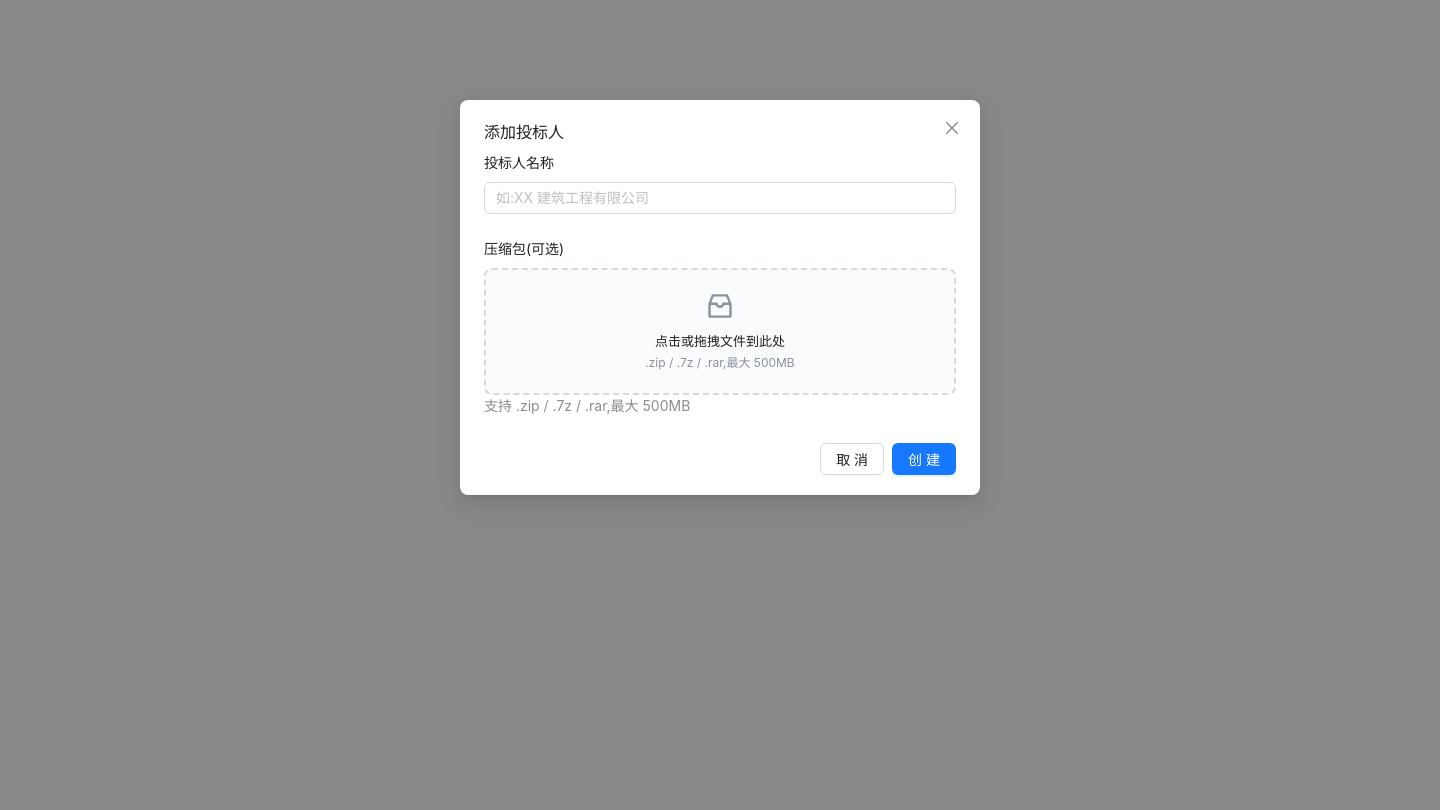
Scenario: AddBidderDialog › 空 name 提交时显示错误,不调 API
Click the button with test id "bidder-submit" at x=924, y=459, box x1=892 y1=443 x2=956 y2=475
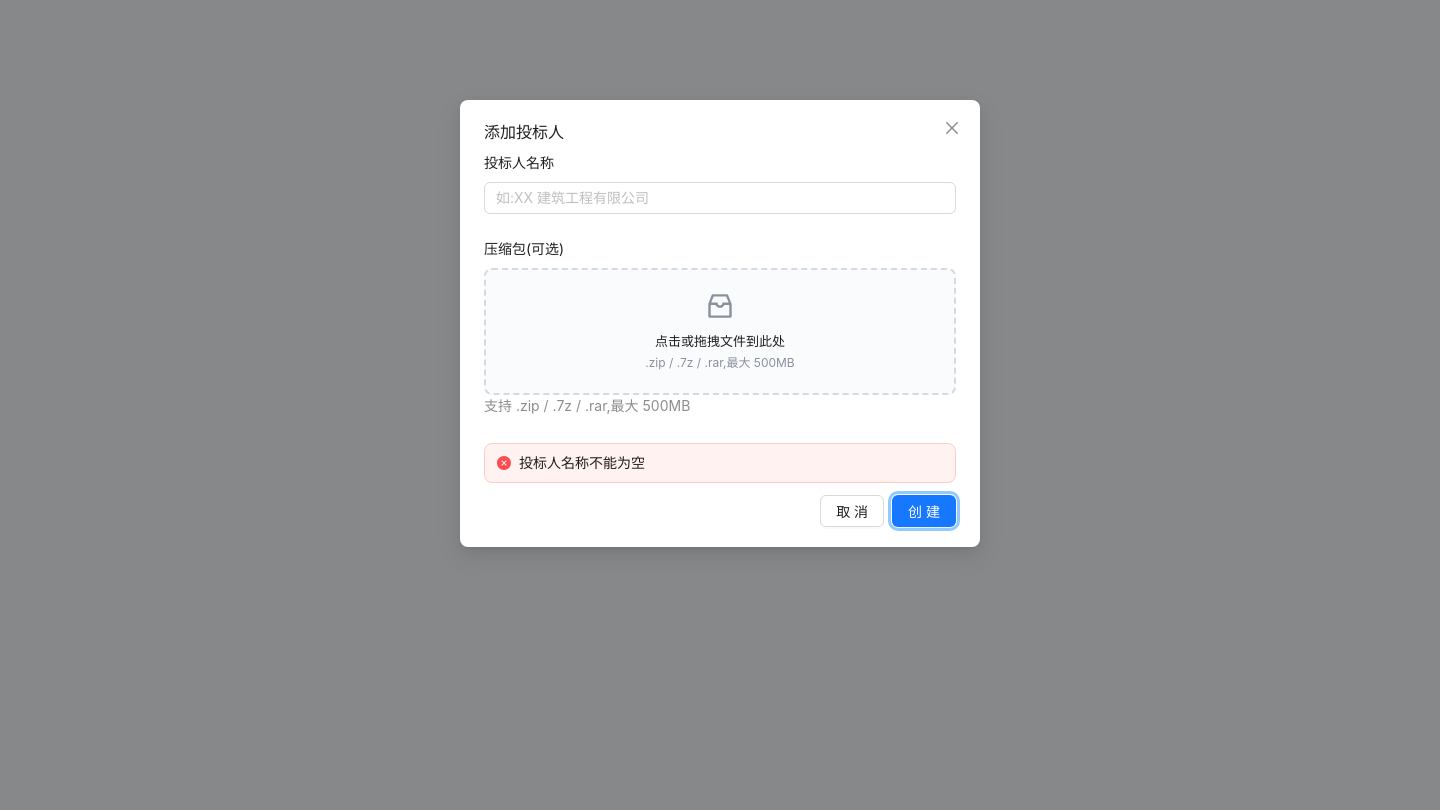
Check: the message with test id "bidder-form-error" reads "投标人名称不能为空", box x1=519 y1=454 x2=645 y2=471
